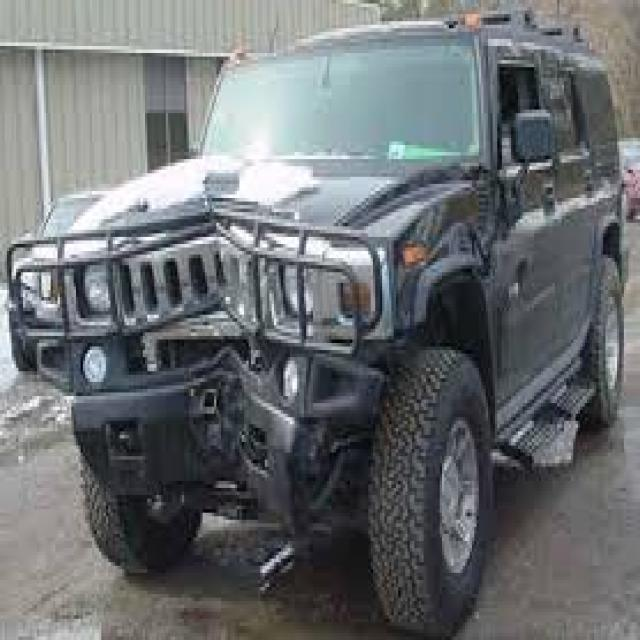moderate: (8, 142, 460, 505)
